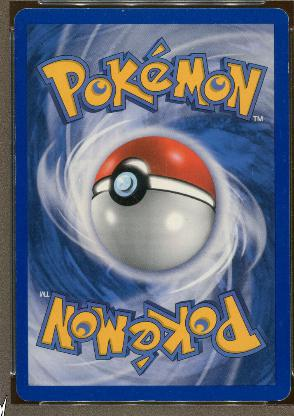Card: (10, 4, 292, 406)
Corner Wear: (274, 387, 290, 401)
Edge Wear: (15, 250, 16, 292), (286, 63, 288, 78), (15, 154, 16, 184), (287, 144, 288, 170), (136, 400, 156, 401), (14, 124, 15, 142)
Scratch: (276, 128, 282, 140), (260, 361, 266, 371), (40, 39, 48, 45), (272, 116, 280, 119), (120, 9, 124, 13)
